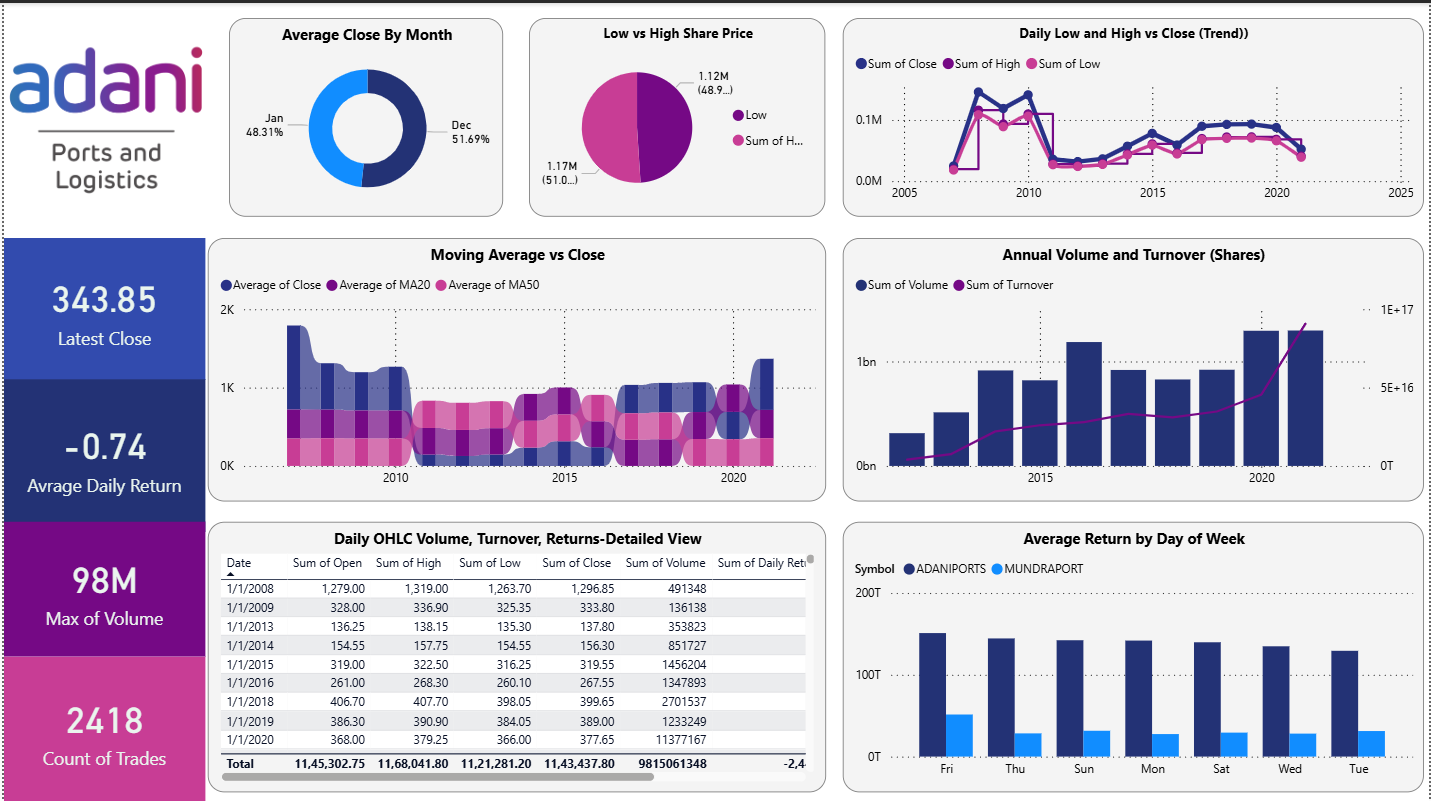

This screenshot's page, from the dashboard's own definition file:
{"tool":"powerbi","page":{"name":"Page 1","canvas":[1285,720],"ordinal":0},"visuals":[{"type":"card","fields":{"Values":["ADANIPORTS.Latest Close"]},"box":[0,211.5,181.6,128.1],"z":1000},{"type":"card","fields":{"Values":["ADANIPORTS.Avrage Daily Return"]},"box":[0,339.3,181.5,137.5],"z":2000},{"type":"card","fields":{"Values":["Max(ADANIPORTS.Volume)"]},"box":[0,467.8,181.5,121.7],"z":3000},{"type":"card","fields":{"Values":["Count(ADANIPORTS.Trades)"]},"box":[0,589.6,181.6,130.6],"z":4000},{"type":"lineChart","title":"Daily Low and High vs Close (Trend))","fields":{"Y":["Sum(ADANIPORTS.Close)"],"Category":["ADANIPORTS.years"],"Y2":["Sum(ADANIPORTS.High)","Sum(ADANIPORTS.Low)"]},"box":[756.3,13.7,523.7,179.1],"z":5000},{"type":"ribbonChart","title":"Moving Average vs Close","fields":{"Category":["ADANIPORTS.years"],"Y":["Avg(ADANIPORTS.Close)","Avg(ADANIPORTS.MA20)","Avg(ADANIPORTS.MA50)"]},"box":[184.1,211.5,557.3,237.6],"z":6000},{"type":"lineClusteredColumnComboChart","title":"Annual Volume and Turnover (Shares)","fields":{"Category":["ADANIPORTS.years"],"Y":["Sum(ADANIPORTS.Volume)"],"Y2":["Sum(ADANIPORTS.Turnover)"]},"box":[756.3,211.5,523.7,237.6],"z":7000},{"type":"tableEx","title":"Daily OHLC Volume, Turnover, Returns-Detailed View","fields":{"Values":["ADANIPORTS.Date","Sum(ADANIPORTS.Open)","Sum(ADANIPORTS.High)","Sum(ADANIPORTS.Low)","Sum(ADANIPORTS.Close)","Sum(ADANIPORTS.Volume)","Sum(ADANIPORTS.Daily Return %)","Sum(ADANIPORTS.MA20)","Sum(ADANIPORTS.MA50)"]},"box":[184.1,467.7,557.3,243.8],"z":8000},{"type":"clusteredColumnChart","title":"Average Return by Day of Week","fields":{"Category":["ADANIPORTS.days of week"],"Y":["Avg(ADANIPORTS.Turnover)"],"Series":["ADANIPORTS.Symbol"]},"box":[756.3,467.7,523.7,243.8],"z":9000},{"type":"pieChart","title":"Low vs High Share Price","fields":{"Y":["Sum(ADANIPORTS.Low)","Sum(ADANIPORTS.High)"]},"box":[473.9,13.7,267.5,179.1],"z":10000},{"type":"donutChart","title":"Average Close By Month","fields":{"Y":["Avg(ADANIPORTS.Close)"],"Category":["ADANIPORTS.month"]},"box":[202.8,13.7,247.5,179.1],"z":11000},{"type":"image","box":[0,0,184.1,211.5],"z":12000}]}

Visuals, with their boxes in screenshot pixels (x1, y1, x2, y2), scaled from the page's 1285x720 canvas onto the 1431x801 screenshot:
card - ADANIPORTS.Latest Close: crop(0, 235, 202, 378)
card - ADANIPORTS.Avrage Daily Return: crop(0, 377, 202, 530)
card - Max(ADANIPORTS.Volume): crop(0, 520, 202, 656)
card - Count(ADANIPORTS.Trades): crop(0, 656, 202, 800)
"Daily Low and High vs Close (Trend))" lineChart: crop(842, 15, 1425, 214)
"Moving Average vs Close" ribbonChart: crop(205, 235, 826, 500)
"Annual Volume and Turnover (Shares)" lineClusteredColumnComboChart: crop(842, 235, 1425, 500)
"Daily OHLC Volume, Turnover, Returns-Detailed View" tableEx: crop(205, 520, 826, 792)
"Average Return by Day of Week" clusteredColumnChart: crop(842, 520, 1425, 792)
"Low vs High Share Price" pieChart: crop(528, 15, 826, 214)
"Average Close By Month" donutChart: crop(226, 15, 501, 214)
image: crop(0, 0, 205, 235)
